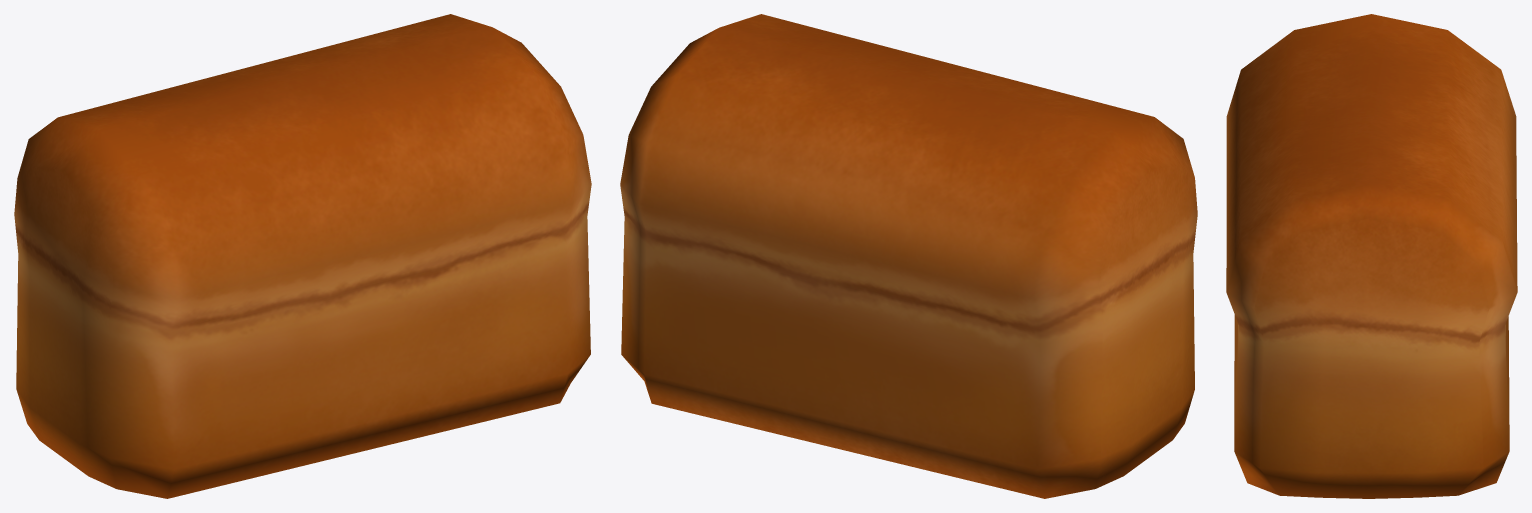
The model's file is Loaf.fbx.
The picture shows the model from 3 angles, left to right: view 1: azimuth 30°, elevation 25°; view 2: azimuth 150°, elevation 25°; view 3: azimuth 270°, elevation 25°; orthographic projection. The views are drawn at different scales.
Visible parts, largest first — view 1: Loaf; view 2: Loaf; view 3: Loaf.
Part boxes in pixels (x1,y1,x2,y2): Loaf: (14, 14, 591, 498); Loaf: (620, 14, 1197, 498); Loaf: (1226, 14, 1517, 498).
Bounding box in the file's own units: 62.45 × 40.02 × 35.27.
